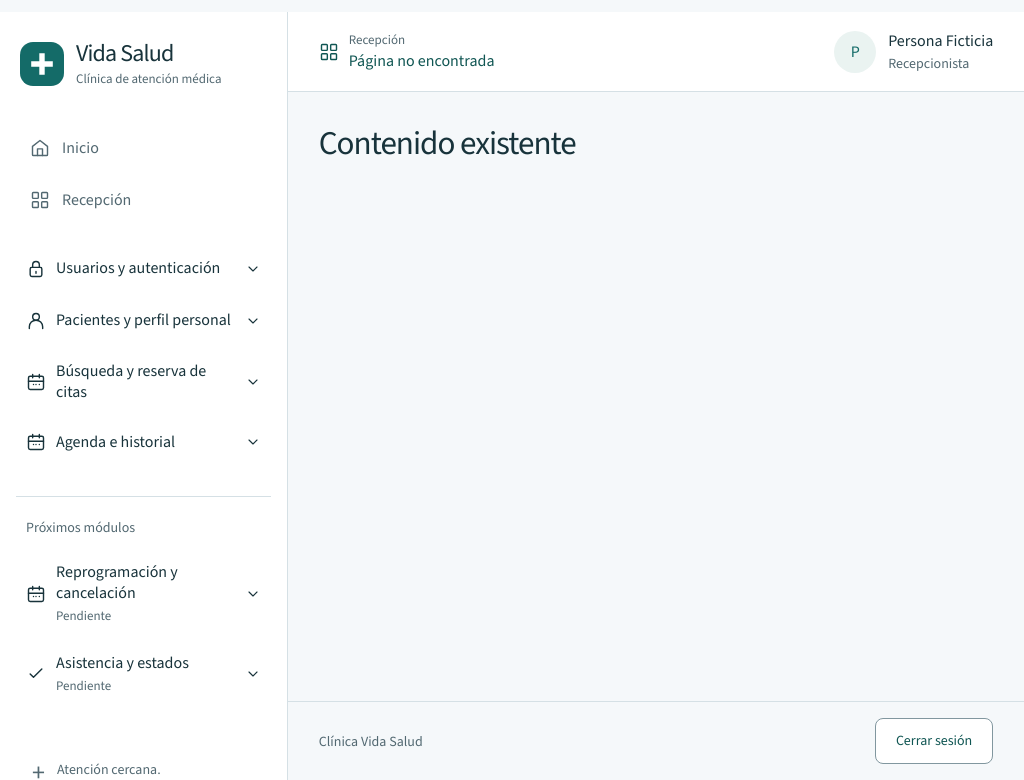
Test: sidebar modular y orientación › Recepcionista puede desplegar sus módulos sin CU visibles ni funciones ajenas
The width and height of the screenshot is (1024, 780).
Expected: the link "Gestionar pacientes" is not shown
Click the button "Pacientes y perfil personal" at (144, 321), box 16,297 -> 271,345
(page scrolled)
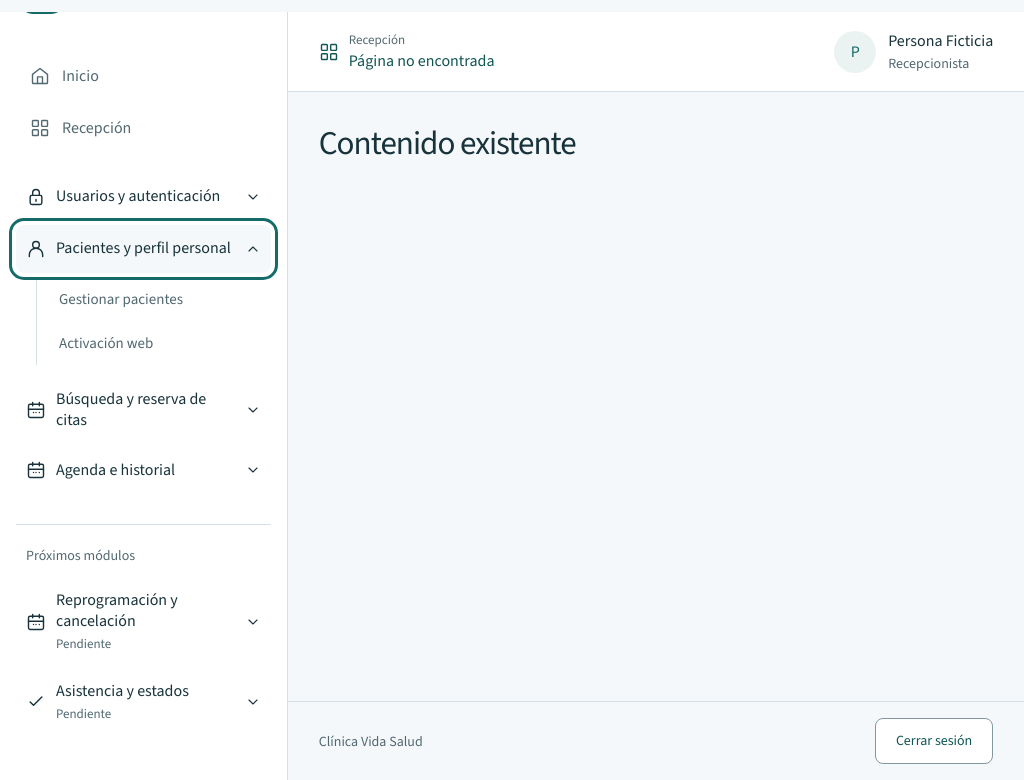
Expected: the number of buttons "Cerrar sesión" is 1, 875,718 -> 993,764
Result: the button "Pacientes y perfil personal" is expanded at 16,225 -> 271,273
Result: the link "Gestionar pacientes" is shown at 59,289 -> 183,309
